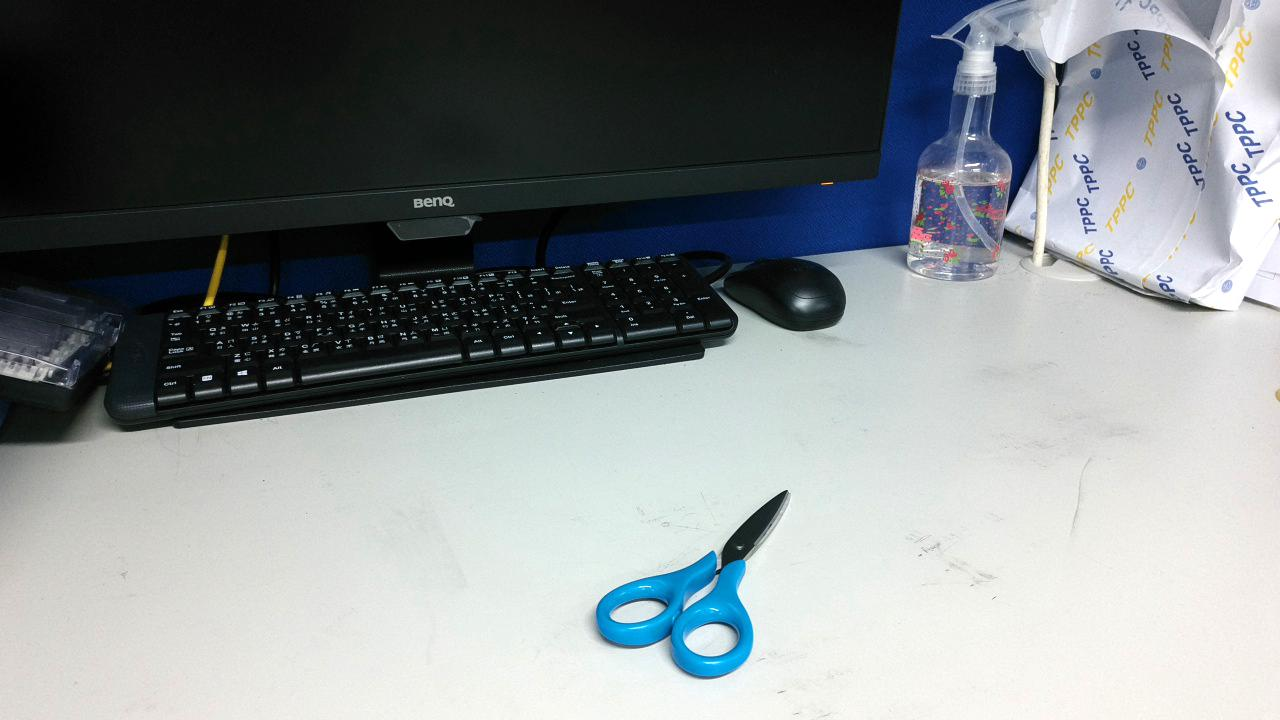long: (336, 529, 602, 654)
